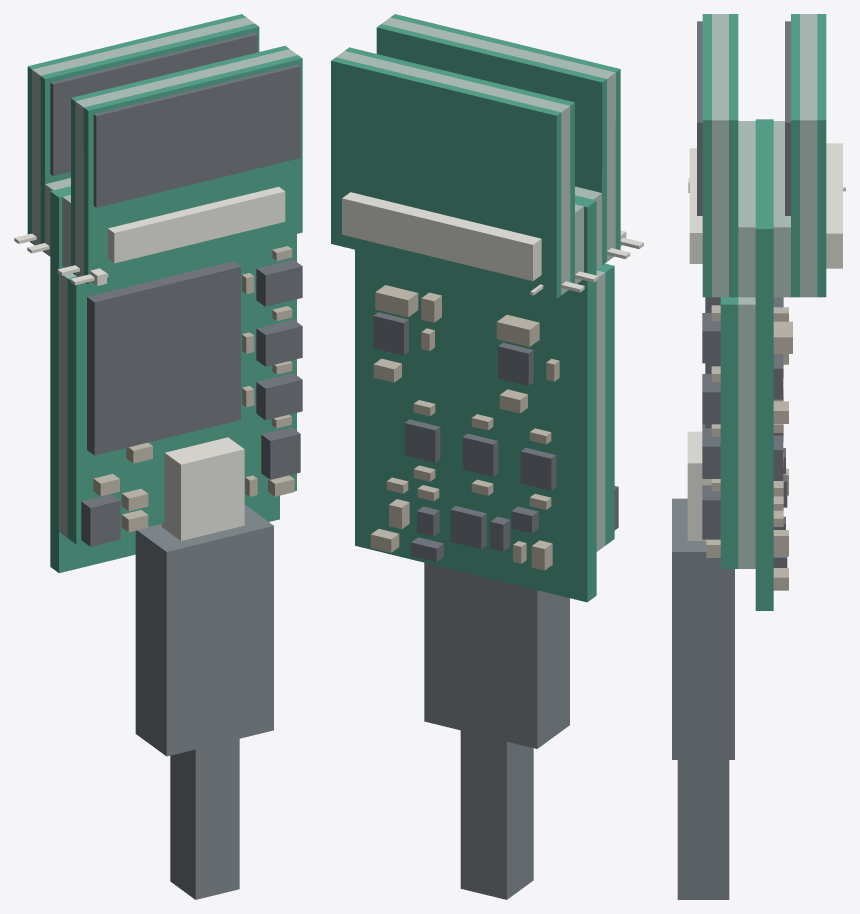
File: Option_A_Head_Stack_V12_Solid.glb
3 renders of one model, left to right at view 1: azimuth 30°, elevation 25°; view 2: azimuth 150°, elevation 25°; view 3: azimuth 270°, elevation 25°, orthographic. The views are drawn at different scales.
Visible parts, largest first — view 1: ic, board, plug, conn, fill, passive; view 2: board, plug, fill, ic, conn, passive; view 3: board, plug, fill, ic, conn, passive.
Boxes of the visible parts, <box> form: ic: <box>50,32,302,546</box>; board: <box>27,14,302,573</box>; plug: <box>135,504,273,899</box>; conn: <box>14,186,285,540</box>; fill: <box>32,17,297,537</box>; passive: <box>93,246,294,532</box>; board: <box>331,14,620,602</box>; plug: <box>424,562,569,899</box>; fill: <box>336,17,615,551</box>; ic: <box>373,312,618,561</box>; conn: <box>342,192,643,295</box>; passive: <box>370,285,559,570</box>; board: <box>702,14,826,610</box>; plug: <box>672,498,734,899</box>; fill: <box>712,14,817,568</box>; ic: <box>697,21,790,567</box>; conn: <box>687,143,845,540</box>; passive: <box>706,297,792,590</box>.
Size of the model in its own units: 24.12 by 78.64 by 15.17.
